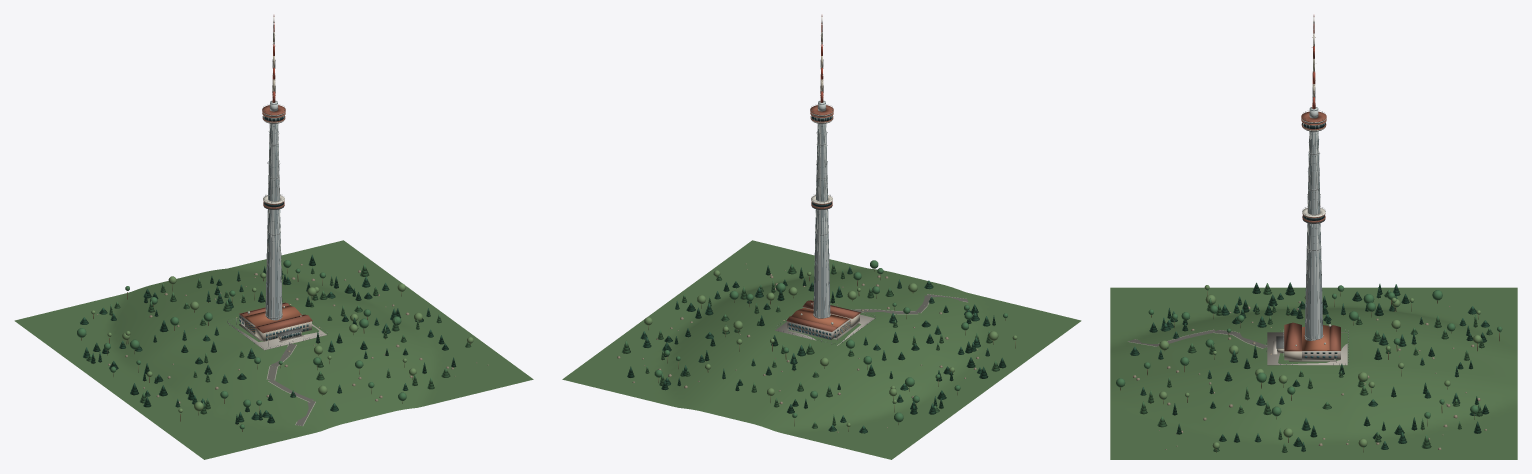
File: kok_tobe_tv_tower.glb
3 renders of one model, left to right at view 1: azimuth 30°, elevation 25°; view 2: azimuth 150°, elevation 25°; view 3: azimuth 270°, elevation 25°, orthographic. The views are drawn at different scales.
Parts seen in each view (by area): view 1: kok_tobe_grass, kok_tobe_pine_dark, kok_tobe_pine_light, kok_tobe_pine, kok_tobe_leaf, kok_tobe_cladding_light, kok_tobe_leaf_light, kok_tobe_cladding_dim, kok_tobe_cladding, kok_tobe_roof_red, kok_tobe_rib_light, kok_tobe_asphalt (+1 smaller); view 2: kok_tobe_grass, kok_tobe_pine_dark, kok_tobe_pine, kok_tobe_pine_light, kok_tobe_leaf, kok_tobe_cladding_dim, kok_tobe_cladding_light, kok_tobe_leaf_light, kok_tobe_roof_red, kok_tobe_cladding, kok_tobe_rib_light; view 3: kok_tobe_grass, kok_tobe_pine_dark, kok_tobe_pine_light, kok_tobe_pine, kok_tobe_leaf, kok_tobe_cladding, kok_tobe_roof_red, kok_tobe_leaf_light, kok_tobe_cladding_light, kok_tobe_cladding_dim, kok_tobe_paving, kok_tobe_rib_light (+3 smaller).
Boxes of the visible parts, x1=… form: kok_tobe_grass: x1=14, y1=240, x2=533, y2=459; kok_tobe_pine_dark: x1=90, y1=254, x2=456, y2=424; kok_tobe_pine_light: x1=86, y1=264, x2=471, y2=414; kok_tobe_pine: x1=80, y1=271, x2=433, y2=422; kok_tobe_leaf: x1=77, y1=260, x2=406, y2=429; kok_tobe_cladding_light: x1=265, y1=101, x2=282, y2=320; kok_tobe_leaf_light: x1=91, y1=272, x2=473, y2=412; kok_tobe_cladding_dim: x1=266, y1=100, x2=282, y2=320; kok_tobe_cladding: x1=269, y1=123, x2=280, y2=319; kok_tobe_roof_red: x1=239, y1=105, x2=312, y2=333; kok_tobe_rib_light: x1=263, y1=115, x2=299, y2=339; kok_tobe_asphalt: x1=267, y1=344, x2=315, y2=425; kok_tobe_grass: x1=562, y1=240, x2=1081, y2=459; kok_tobe_pine_dark: x1=627, y1=265, x2=1006, y2=414; kok_tobe_pine: x1=640, y1=266, x2=990, y2=433; kok_tobe_pine_light: x1=621, y1=262, x2=999, y2=428; kok_tobe_leaf: x1=644, y1=260, x2=1013, y2=426; kok_tobe_cladding_dim: x1=814, y1=100, x2=830, y2=317; kok_tobe_cladding_light: x1=813, y1=101, x2=830, y2=318; kok_tobe_leaf_light: x1=644, y1=270, x2=1017, y2=426; kok_tobe_roof_red: x1=786, y1=105, x2=860, y2=331; kok_tobe_cladding: x1=815, y1=123, x2=826, y2=318; kok_tobe_rib_light: x1=811, y1=115, x2=832, y2=317; kok_tobe_grass: x1=1110, y1=287, x2=1517, y2=459; kok_tobe_pine_dark: x1=1149, y1=282, x2=1489, y2=446; kok_tobe_pine_light: x1=1139, y1=283, x2=1492, y2=452; kok_tobe_pine: x1=1130, y1=284, x2=1489, y2=451; kok_tobe_leaf: x1=1116, y1=285, x2=1502, y2=448; kok_tobe_cladding: x1=1305, y1=131, x2=1322, y2=340; kok_tobe_roof_red: x1=1284, y1=111, x2=1340, y2=351; kok_tobe_leaf_light: x1=1159, y1=285, x2=1481, y2=449; kok_tobe_cladding_light: x1=1304, y1=107, x2=1323, y2=340; kok_tobe_cladding_dim: x1=1307, y1=107, x2=1322, y2=340; kok_tobe_paving: x1=1267, y1=332, x2=1347, y2=365; kok_tobe_rib_light: x1=1277, y1=123, x2=1324, y2=355.
Size of the model in its own units: 410 by 401 by 410.
